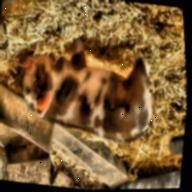boar: (11, 26, 167, 152)
